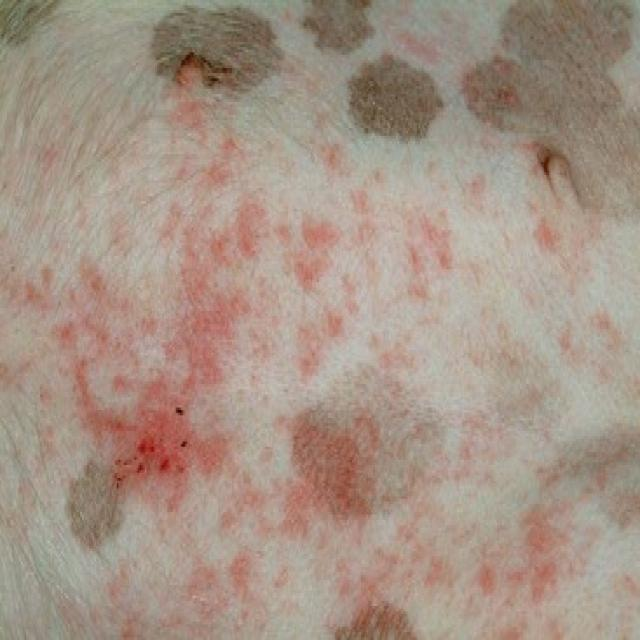allergic dermatitis: (7, 229, 246, 506), (230, 206, 458, 394), (234, 372, 389, 542), (104, 502, 285, 640), (162, 48, 266, 268), (454, 486, 576, 640), (314, 515, 456, 640), (300, 76, 385, 258)
